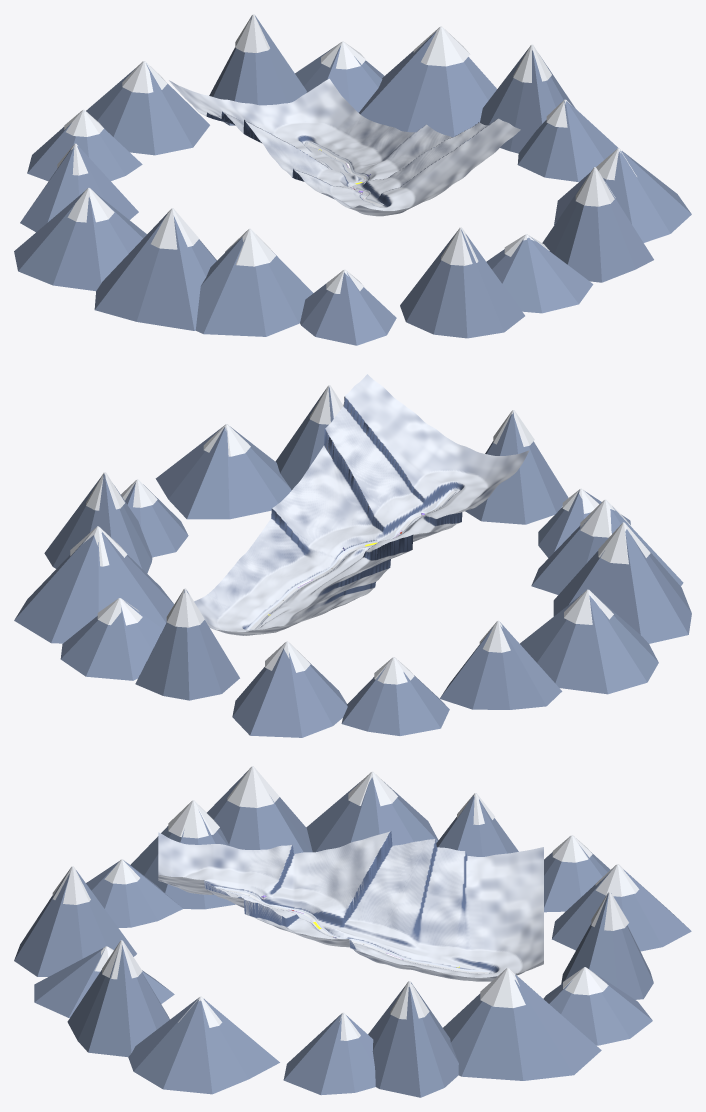
File: cume_celestial.glb
The picture shows the model from 3 angles, top to bottom: view 1: azimuth 30°, elevation 25°; view 2: azimuth 150°, elevation 25°; view 3: azimuth 270°, elevation 25°; orthographic projection.
Visible parts, largest first — view 1: terrain, mtn7, mtn14, mtn6, mtn4, mtn8, mtn2, mtn11, mtn3, mtn0, mtn1, mtn5 (+17 smaller); view 2: terrain, mtn14, mtn8, mtn1, mtn7, mtn11, mtn9, mtn12, mtn4, mtn13, mtn10, mtn15 (+18 smaller); view 3: terrain, mtn14, mtn1, mtn15, mtn2, mtn4, mtn8, mtn0, mtn11, mtn12, mtn13, mtn7 (+18 smaller).
Boxes of the visible parts, bbox=[...] form: terrain: bbox=[169, 78, 520, 216]; mtn7: bbox=[94, 213, 216, 330]; mtn14: bbox=[359, 31, 496, 137]; mtn6: bbox=[195, 237, 313, 336]; mtn4: bbox=[400, 229, 524, 338]; mtn8: bbox=[14, 191, 146, 291]; mtn2: bbox=[542, 172, 653, 282]; mtn11: bbox=[86, 63, 209, 155]; mtn3: bbox=[486, 236, 593, 313]; mtn0: bbox=[517, 101, 618, 181]; mtn1: bbox=[554, 150, 691, 242]; mtn5: bbox=[300, 272, 396, 345]; terrain: bbox=[194, 374, 529, 635]; mtn14: bbox=[14, 532, 174, 643]; mtn8: bbox=[520, 594, 658, 694]; mtn1: bbox=[155, 426, 291, 519]; mtn7: bbox=[553, 529, 691, 643]; mtn11: bbox=[232, 648, 347, 737]; mtn9: bbox=[440, 622, 562, 709]; mtn12: bbox=[135, 590, 239, 700]; mtn4: bbox=[465, 412, 568, 524]; mtn13: bbox=[60, 601, 162, 680]; mtn10: bbox=[341, 666, 449, 735]; mtn15: bbox=[44, 474, 152, 573]; terrain: bbox=[158, 831, 543, 981]; mtn14: bbox=[443, 974, 601, 1080]; mtn1: bbox=[128, 998, 279, 1094]; mtn15: bbox=[368, 982, 458, 1097]; mtn2: bbox=[67, 945, 169, 1056]; mtn4: bbox=[14, 868, 136, 976]; mtn8: bbox=[306, 777, 438, 852]; mtn0: bbox=[283, 1014, 375, 1095]; mtn11: bbox=[552, 868, 691, 951]; mtn12: bbox=[561, 893, 653, 999]; mtn13: bbox=[543, 973, 652, 1045]; mtn7: bbox=[207, 771, 312, 853].
Size of what is drawn, in the model's own units: 3372 by 715 by 3386.
